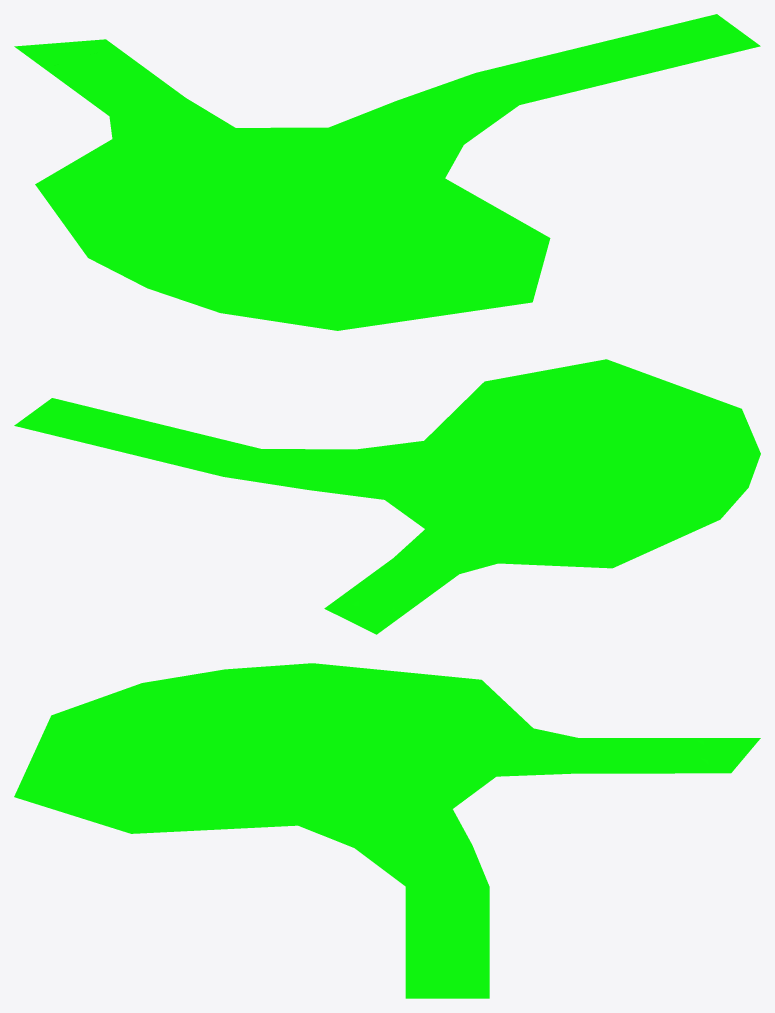
The model's file is s03b_lb3-floor.glb.
3 views of the same model, one above another, from view 1: azimuth 30°, elevation 25°; view 2: azimuth 150°, elevation 25°; view 3: azimuth 270°, elevation 25° (orthographic). The views are drawn at different scales.
Visible parts, largest first — view 1: collision_floor-colonly; view 2: collision_floor-colonly; view 3: collision_floor-colonly.
Part boxes in pixels (box(x1,y1,x2,y2)): collision_floor-colonly: box(14, 14, 760, 330); collision_floor-colonly: box(14, 359, 760, 634); collision_floor-colonly: box(14, 663, 760, 998).
Bounding box in the file's own units: 56.78 × 0.4688 × 53.4.
